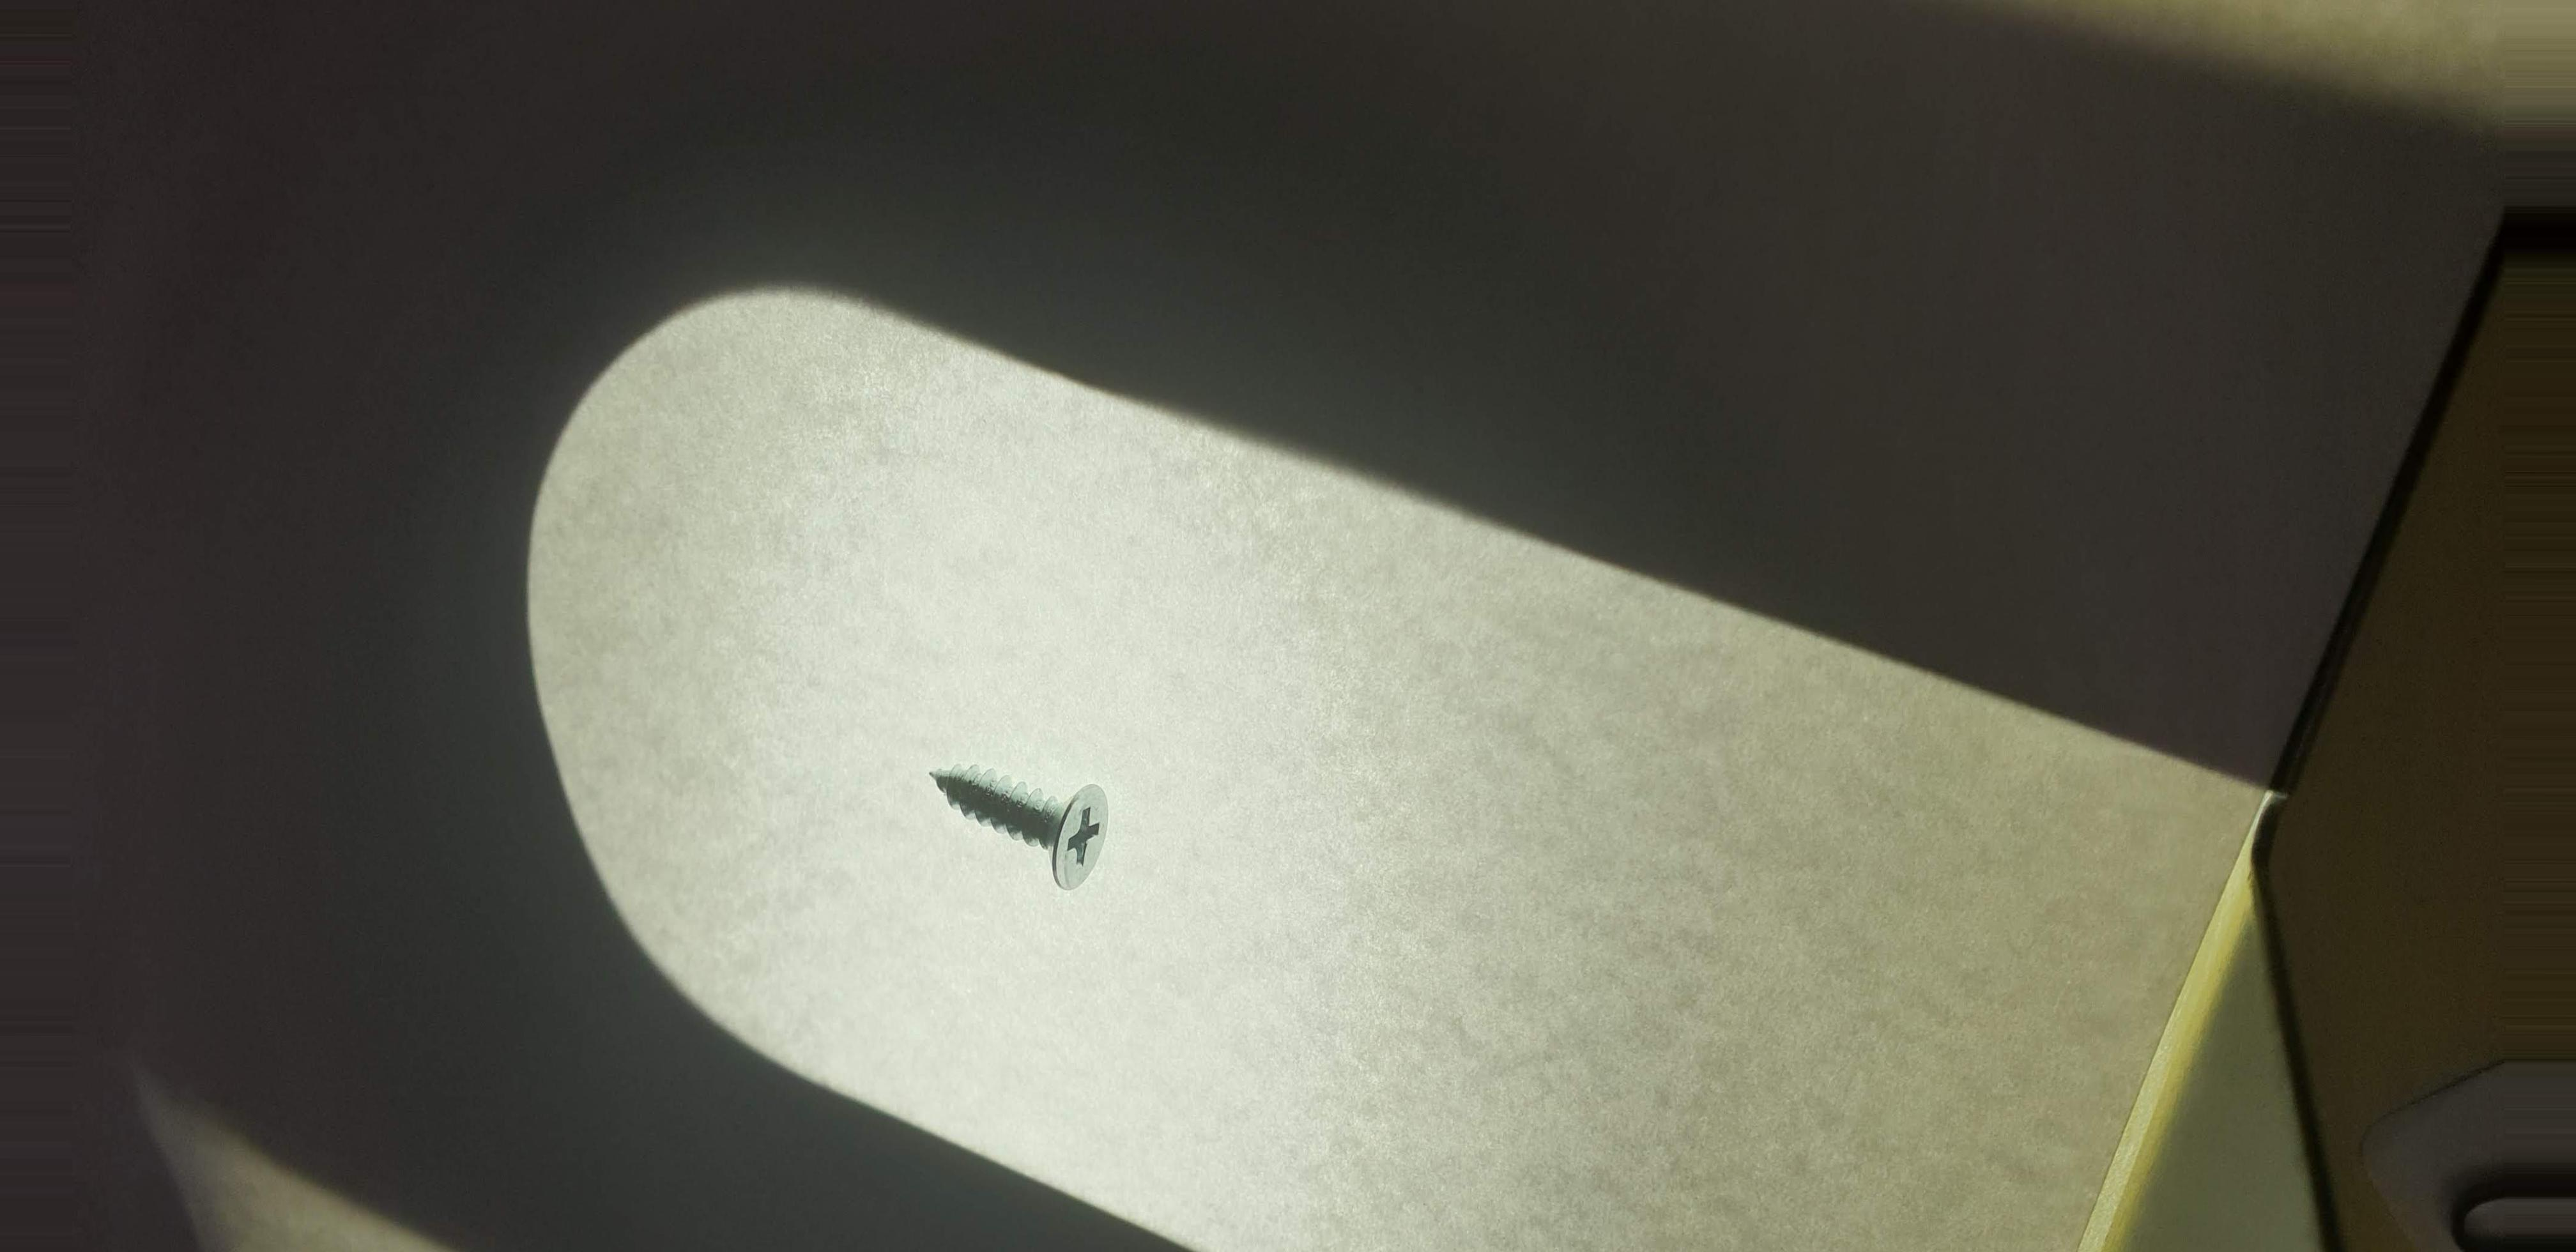S003: (897, 728, 1155, 927)
